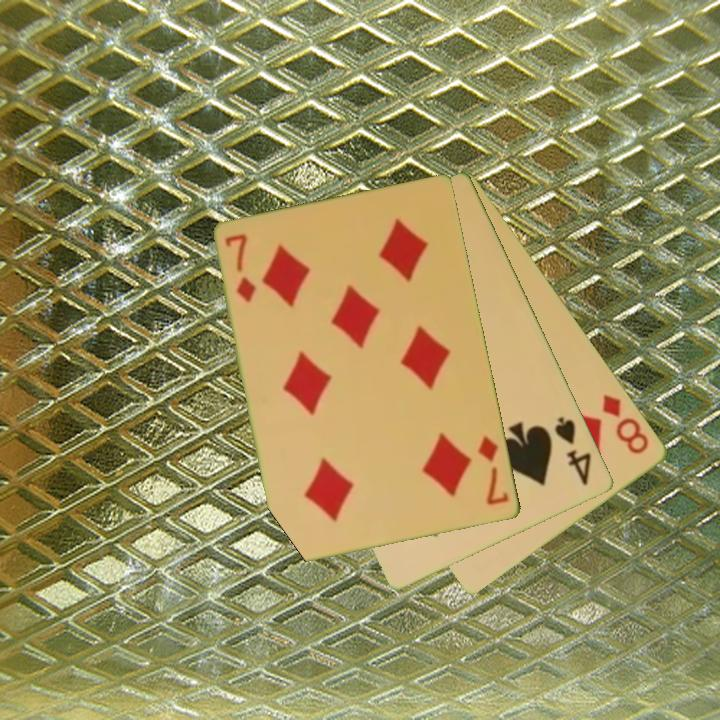4s: (551, 413, 595, 489)
7d: (474, 433, 512, 509), (222, 231, 260, 306)
8d: (599, 390, 653, 458)
